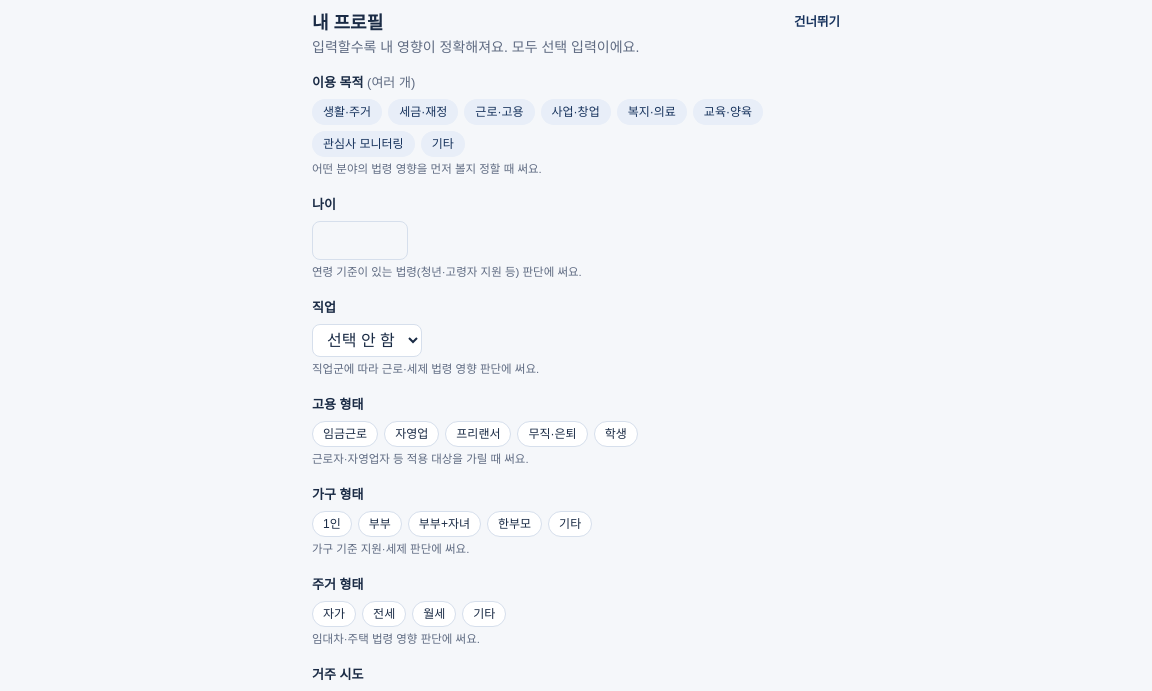
ProfileScreen › 409 → 재동의 대화상자 → 동의 후 같은 값으로 다시 저장
Click the radio button labelled "전세" at [384, 614], box [362,601,406,627]
(page scrolled)
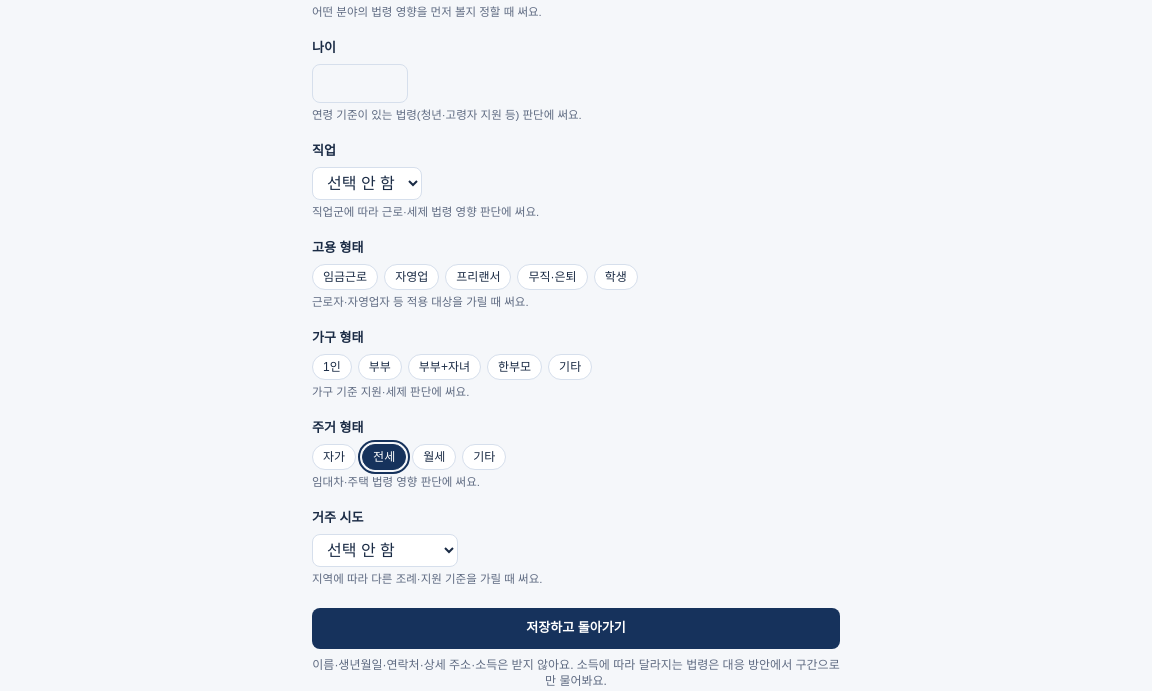
Click the button "저장하고 돌아가기" at [576, 629], box [312,608,840,649]
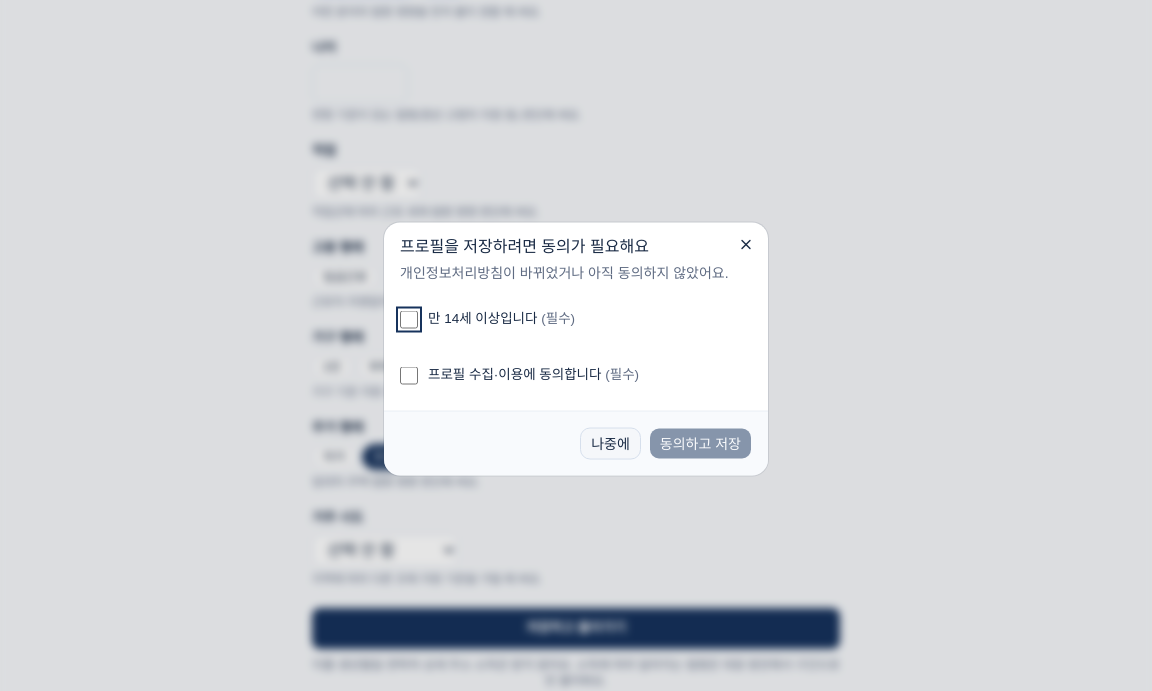
Click the checkbox labelled "만 14세 이상입니다 (필수)" at [409, 320], box [400,310,418,328]
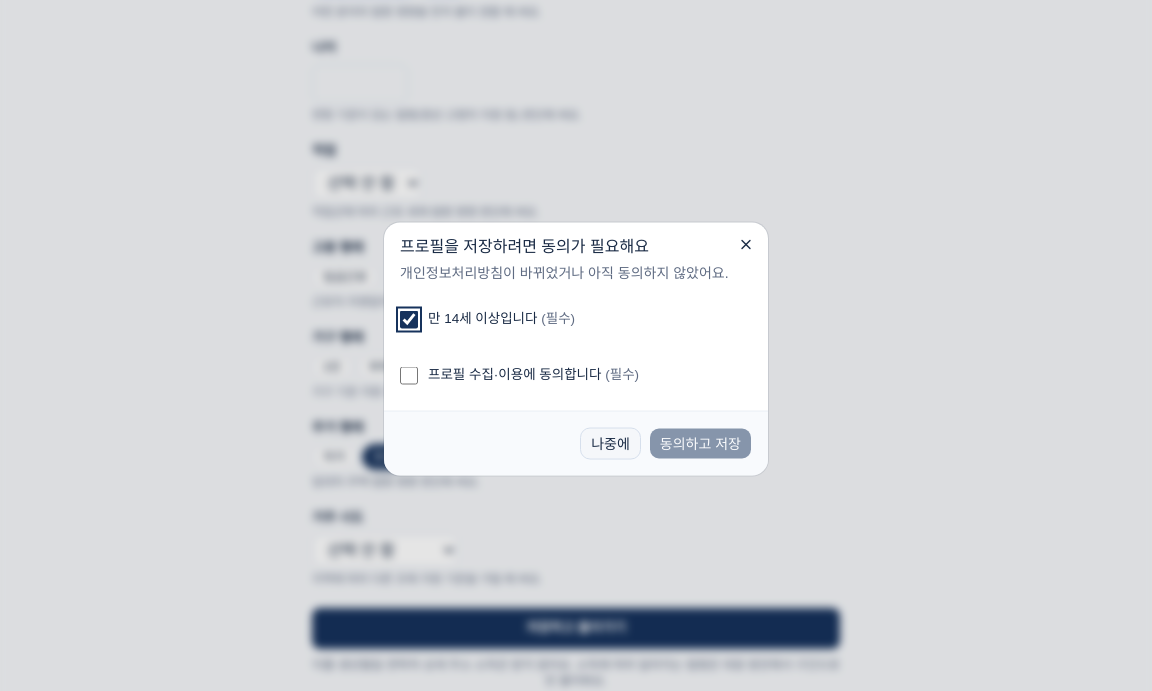
Click the checkbox labelled "프로필 수집·이용에 동의합니다 (필수)" at [409, 376], box [400,366,418,384]
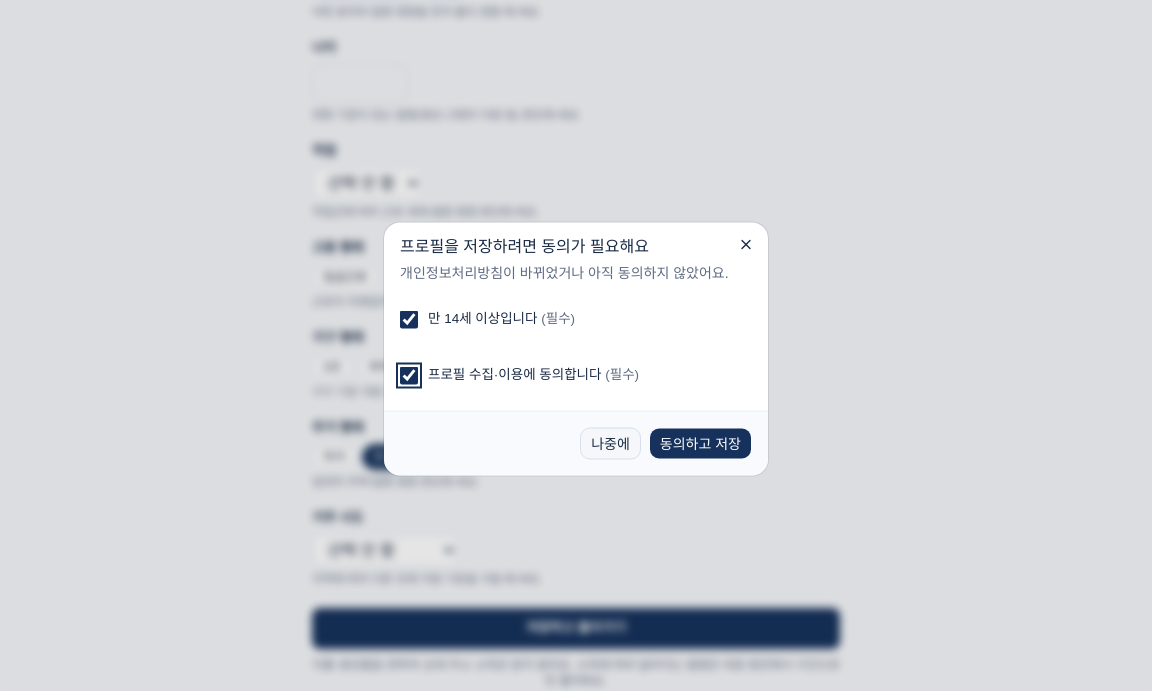
Click the button "동의하고 저장" at [700, 444], box [649,428,752,460]
(page scrolled)
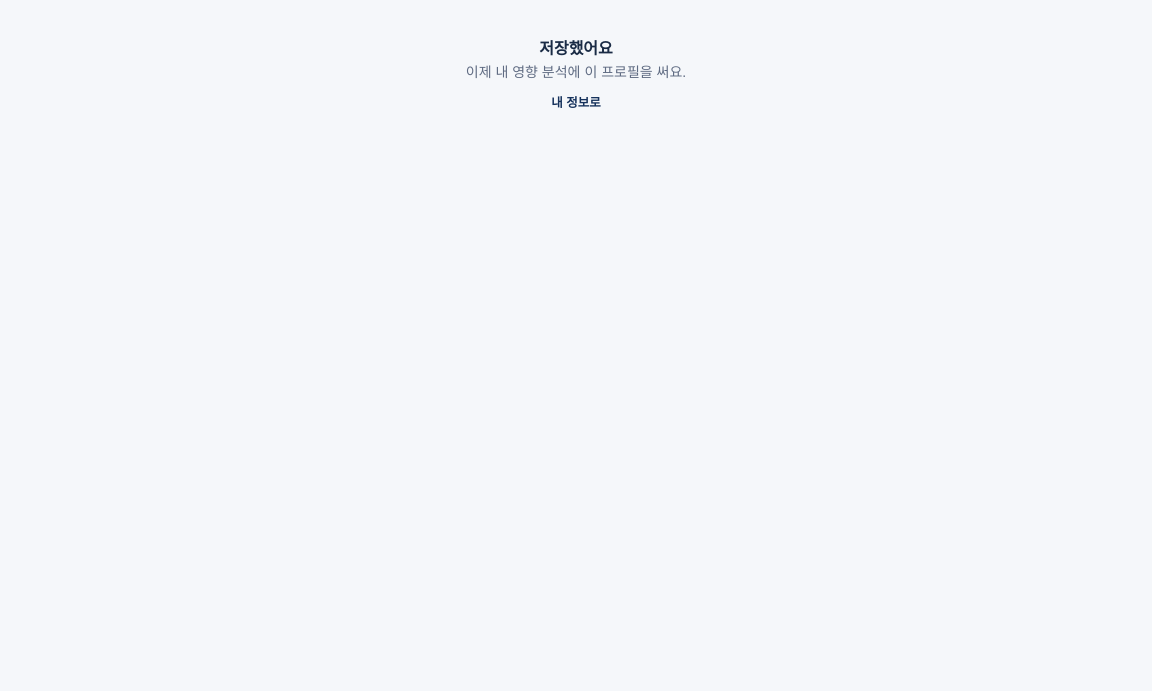
Expected: the heading "저장했어요" is shown, [539,40,613,57]
Expected: the heading "프로필을 저장하려면 동의가 필요해요" is gone
